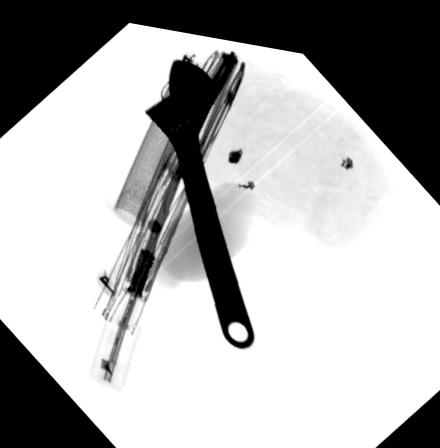Wrench: (141, 51, 255, 340)
